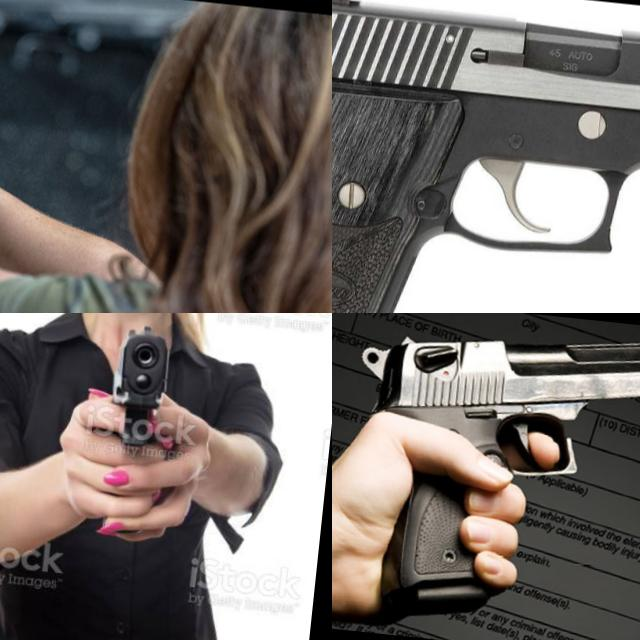handgun: (332, 313, 640, 640), (332, 0, 640, 313), (92, 318, 178, 542), (0, 87, 54, 153)
